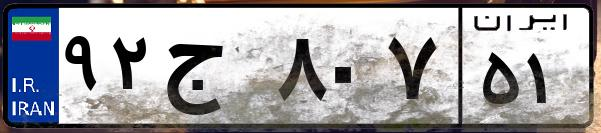0: (330, 28, 385, 110)
1: (525, 38, 570, 115)
2: (110, 28, 158, 98)
5: (475, 38, 525, 113)
7: (385, 28, 445, 110)
8: (270, 28, 330, 110)
9: (57, 26, 110, 100)
ج: (158, 20, 270, 120)
